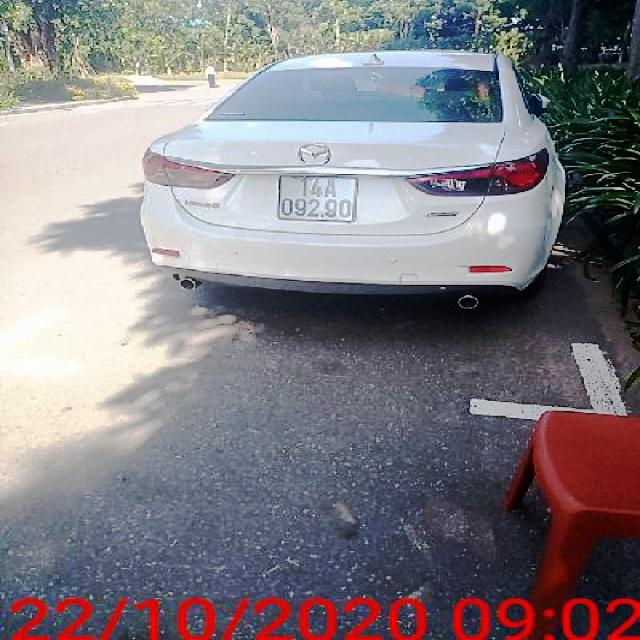license_plate: (276, 175, 361, 223)
